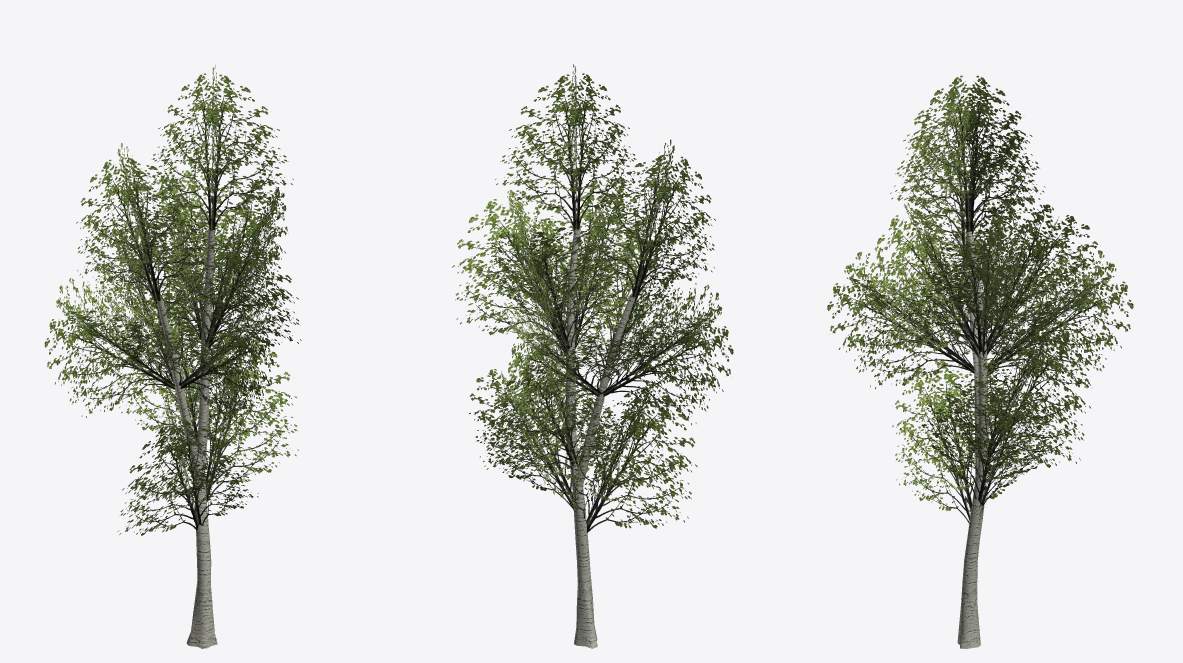
The model's file is WhiteBirch01.DAE.
The picture shows the model from 3 angles, left to right: view 1: azimuth 30°, elevation 25°; view 2: azimuth 150°, elevation 25°; view 3: azimuth 270°, elevation 25°; orthographic projection.
Parts seen in each view (by area): view 1: WhiteBirch256, WhiteBirch128; view 2: WhiteBirch256, WhiteBirch128; view 3: WhiteBirch256, WhiteBirch128.
Boxes of the visible parts, left/top/right/bottom form: WhiteBirch256: left=44, top=65, right=301, bottom=648; WhiteBirch128: left=157, top=228, right=217, bottom=648; WhiteBirch256: left=452, top=64, right=733, bottom=648; WhiteBirch128: left=572, top=228, right=632, bottom=648; WhiteBirch256: left=827, top=75, right=1133, bottom=648; WhiteBirch128: left=957, top=238, right=984, bottom=648.
Size of what is drawn, in the model's own units: 16.54 by 15.51 by 28.82.
